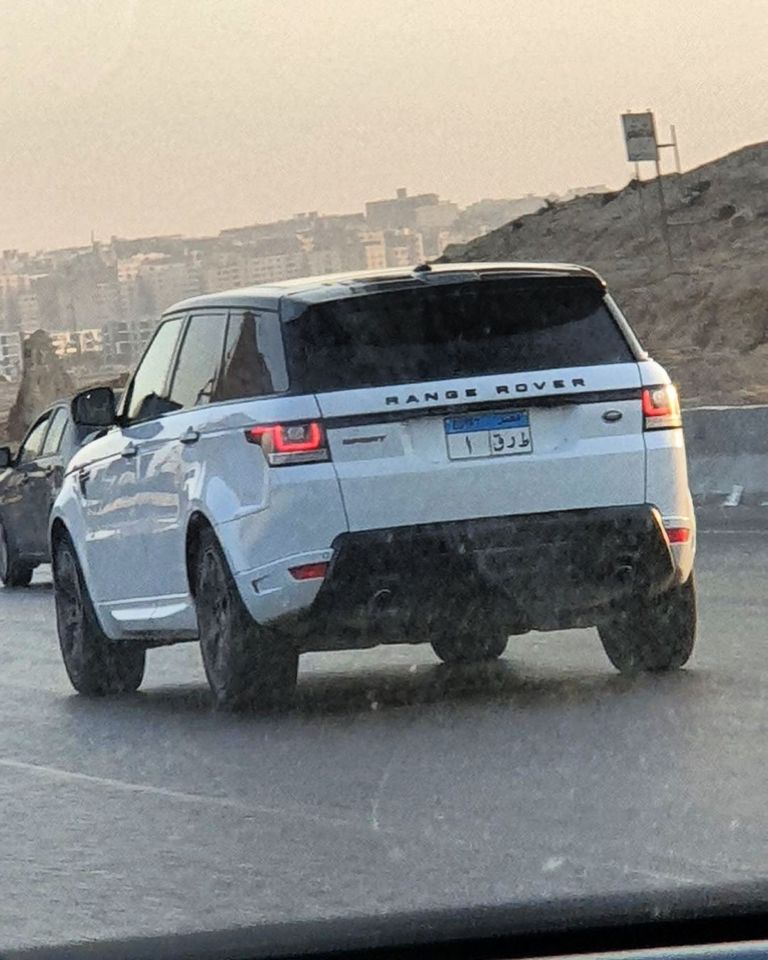carpl: (450, 417, 537, 462)
